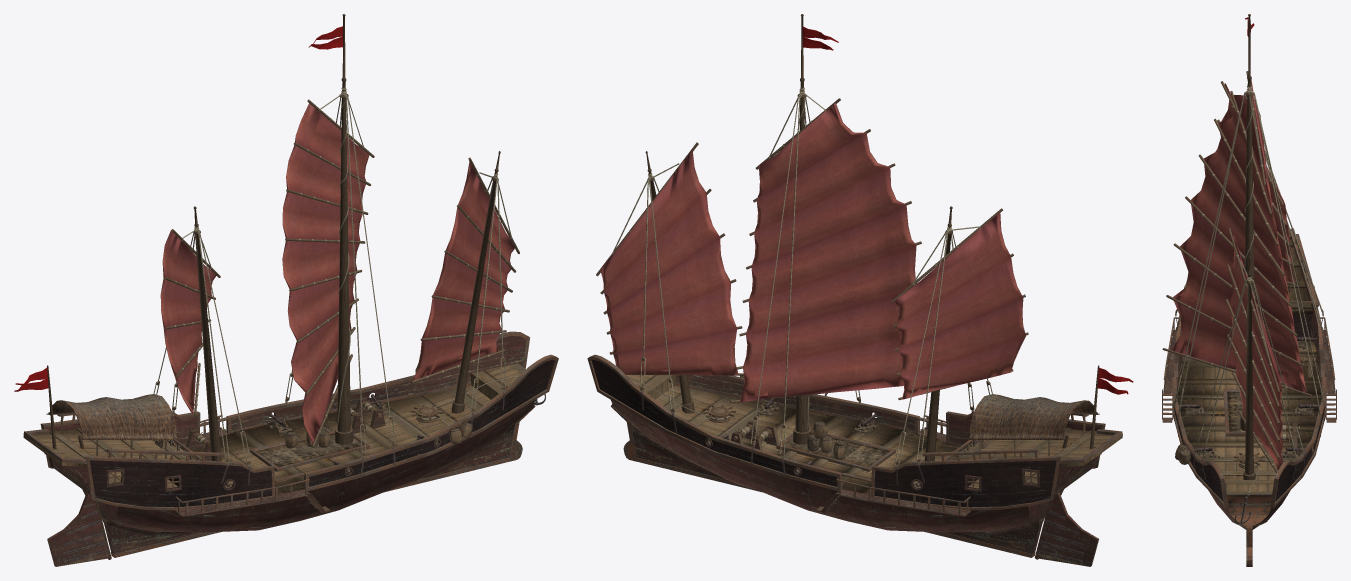
Rendered from junk 1.fbx.
The picture shows the model from 3 angles, left to right: view 1: azimuth 30°, elevation 25°; view 2: azimuth 150°, elevation 25°; view 3: azimuth 270°, elevation 25°; orthographic projection. The views are drawn at different scales.
Visible parts, largest first — view 1: Cube.004_0, Plane.017_0, Cube_0, Cube_0.001; view 2: Plane.017_0, Cube.004_0, Cube_0, Cube_0.001; view 3: Plane.017_0, Cube.004_0, Cube_0.001, Cube_0, Cube_0.008, Cube_0.005.
Part boxes in pixels (box(x1,y1,x2,y2)): Cube.004_0: box(23, 14, 558, 566); Plane.017_0: box(160, 103, 514, 443); Cube_0: box(14, 26, 545, 562); Cube_0.001: box(33, 385, 490, 494); Plane.017_0: box(600, 103, 1025, 401); Cube.004_0: box(587, 14, 1122, 566); Cube_0: box(612, 26, 1133, 562); Cube_0.001: box(655, 385, 1112, 494); Plane.017_0: box(1172, 79, 1306, 469); Cube.004_0: box(1162, 14, 1336, 566); Cube_0.001: box(1176, 239, 1322, 479); Cube_0: box(1173, 17, 1325, 524); Cube_0.008: box(1172, 403, 1206, 416); Cube_0.005: box(1292, 403, 1326, 416).
Bounding box in the file's own units: 916 × 806 × 270.
